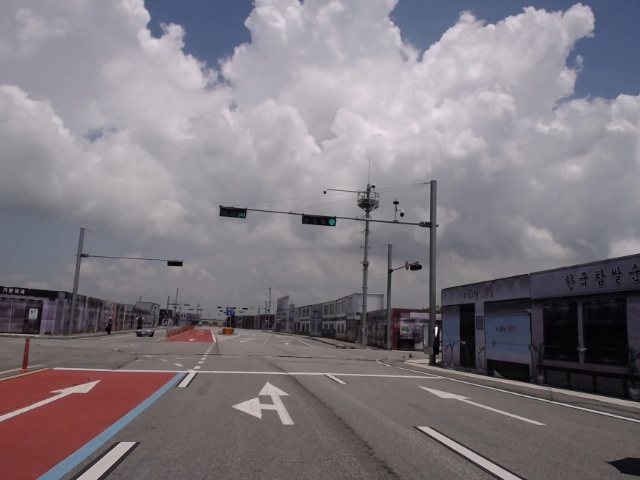straight_green_4: (301, 213, 337, 226)
